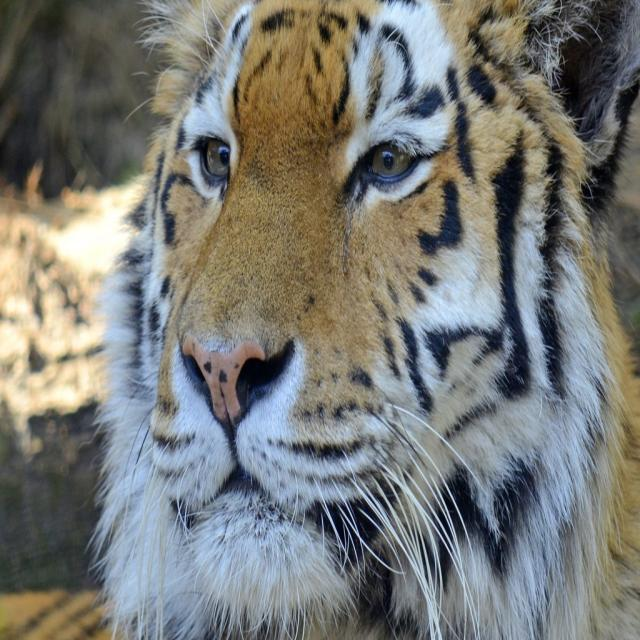Tiger: (82, 0, 639, 639)
